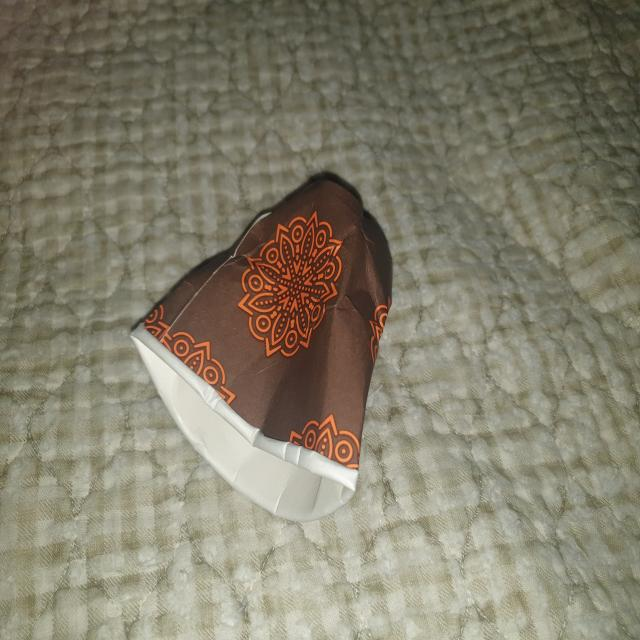cups: (126, 172, 394, 524)
